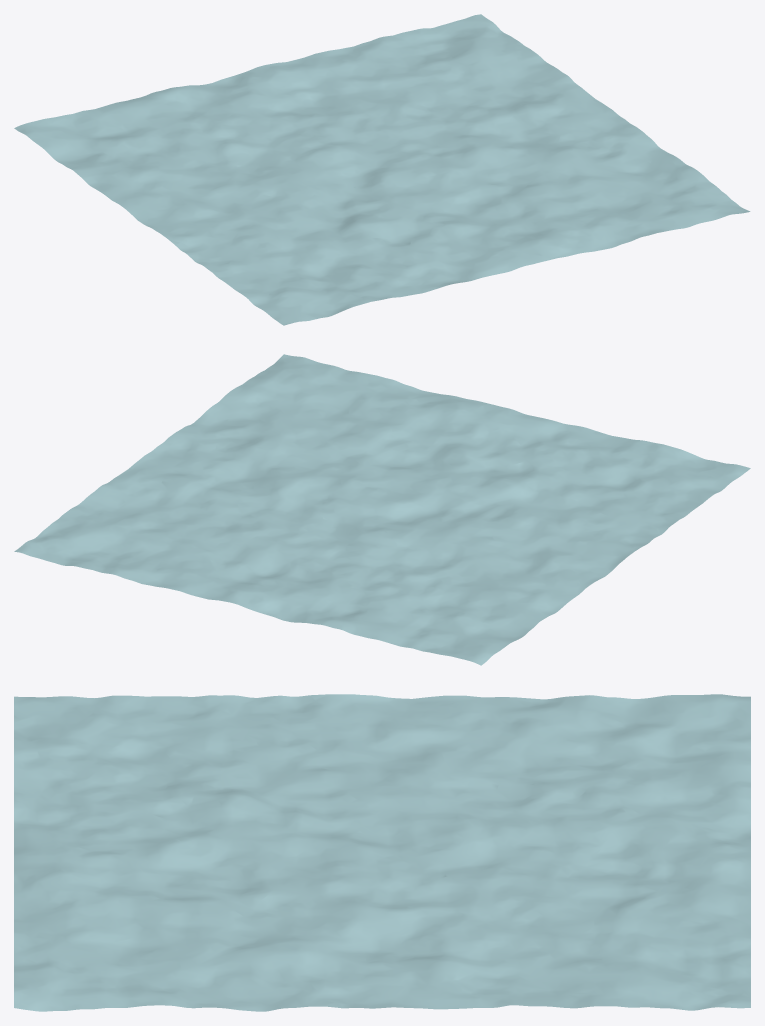
The model's file is TTT_Water.dae.
The picture shows the model from 3 angles, top to bottom: view 1: azimuth 30°, elevation 25°; view 2: azimuth 150°, elevation 25°; view 3: azimuth 270°, elevation 25°; orthographic projection. The views are drawn at different scales.
Visible parts, largest first — view 1: Plane.003; view 2: Plane.003; view 3: Plane.003.
Boxes of the visible parts, left/top/right/bottom form: Plane.003: left=14, top=14, right=750, bottom=325; Plane.003: left=14, top=354, right=750, bottom=665; Plane.003: left=14, top=694, right=750, bottom=1011.
Bounding box in the file's own units: 20.16 × 20.16 × 0.3671.
